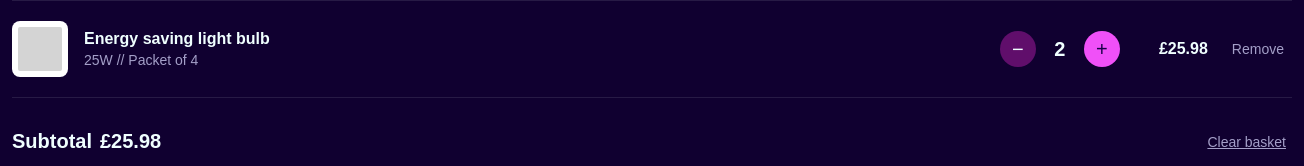
BasketView › removes an item
The image size is (1304, 166).
Step 1. Click the button "Remove" → (1258,49), box [1224,33,1292,65]
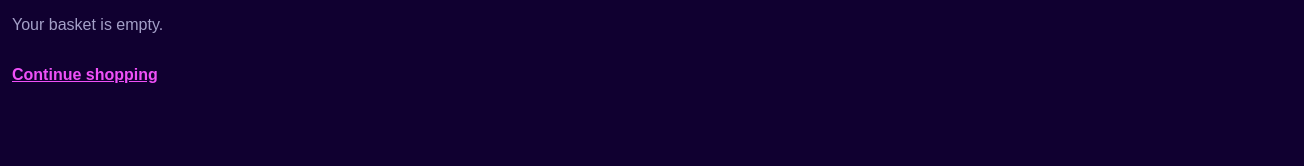
Check: the text "Your basket is empty." is shown, box [12,16,163,34]
